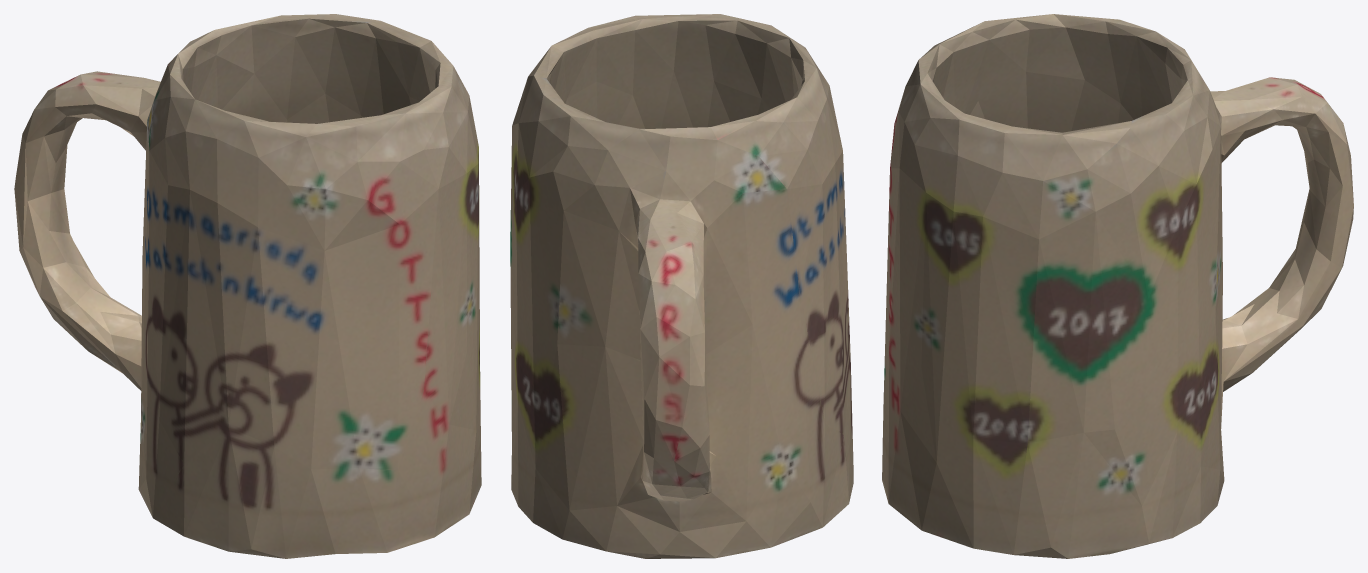
The model's file is 7E02497F-ADA0-6A46-BA4A-A4FBAA79FD25_512.glb.
3 views of the same model, side by side, from view 1: azimuth 30°, elevation 25°; view 2: azimuth 150°, elevation 25°; view 3: azimuth 270°, elevation 25° (orthographic).
Visible parts, largest first — view 1: Krug Watschnkirwa_0.8k_0.5k; view 2: Krug Watschnkirwa_0.8k_0.5k; view 3: Krug Watschnkirwa_0.8k_0.5k.
Part boxes in pixels (x1,y1,x2,y2): Krug Watschnkirwa_0.8k_0.5k: [14, 14, 481, 558]; Krug Watschnkirwa_0.8k_0.5k: [510, 14, 853, 558]; Krug Watschnkirwa_0.8k_0.5k: [882, 14, 1353, 558].
Bounding box in the file's own units: 0.1006 × 0.1317 × 0.134.
1 material, 1 textured.
